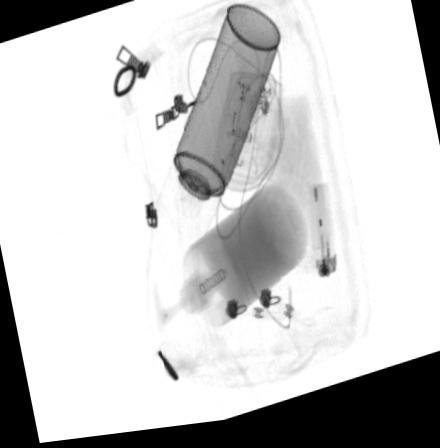Lighter: (306, 190, 337, 287)
Sprayer: (155, 10, 279, 249)
